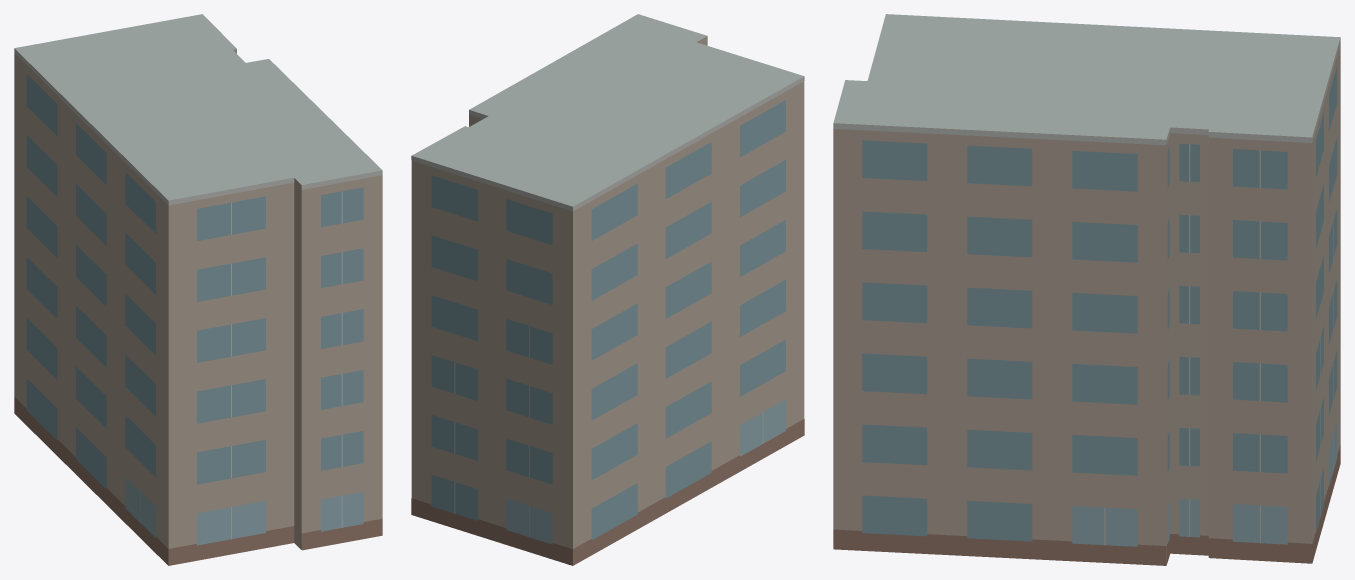
The model's file is survey-upis-32996902.glb.
3 views of the same model, side by side, from view 1: azimuth 30°, elevation 25°; view 2: azimuth 150°, elevation 25°; view 3: azimuth 270°, elevation 25° (orthographic). The views are drawn at different scales.
Parts seen in each view (by area): view 1: survey-upis-32996902.tmp; view 2: survey-upis-32996902.tmp; view 3: survey-upis-32996902.tmp.
Boxes of the visible parts, x1,y1,x2,y2 form: survey-upis-32996902.tmp: [14, 14, 382, 565]; survey-upis-32996902.tmp: [411, 14, 804, 565]; survey-upis-32996902.tmp: [833, 14, 1340, 565].
Size of the model in its own units: 11.59 by 18.3 by 19.75.
